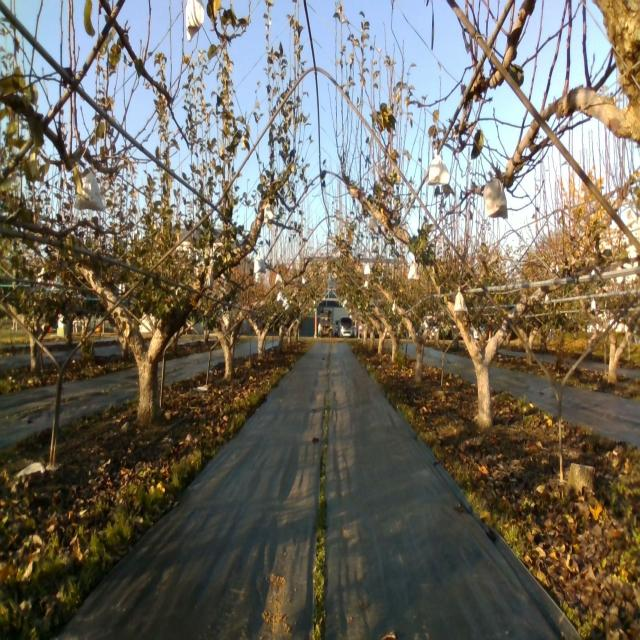pearbags: (72, 163, 108, 212), (482, 172, 508, 220), (181, 0, 204, 42), (427, 150, 451, 184), (252, 244, 266, 274), (454, 288, 470, 312), (202, 271, 216, 292), (407, 260, 420, 280), (263, 201, 274, 224), (366, 214, 378, 231)
